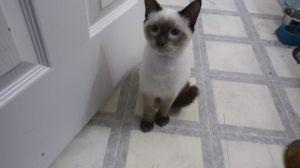siamese: (140, 1, 205, 65)
